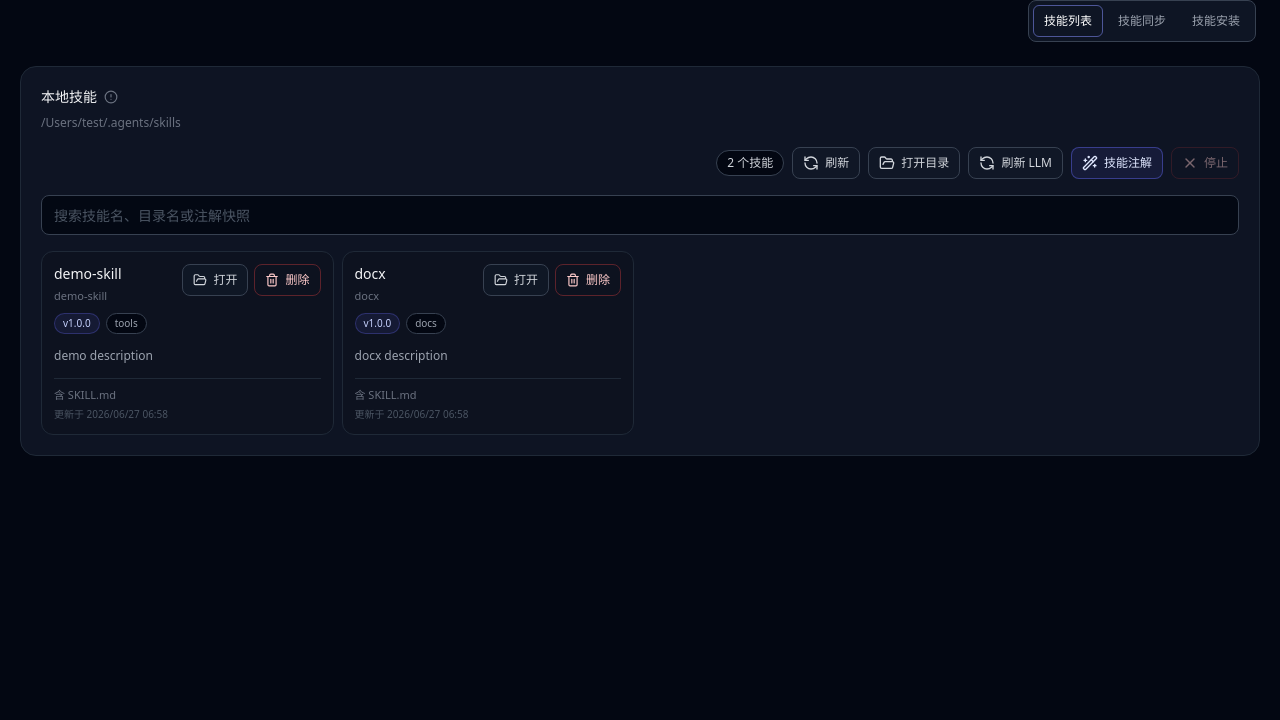
SkillsPage › runs global update and shows actual command in recent command results
Expected: the heading "本地技能" is shown, left=41, top=87, right=97, bottom=107
Click the button "技能安装".
click(1216, 21)  # box left=1181, top=5, right=1251, bottom=37
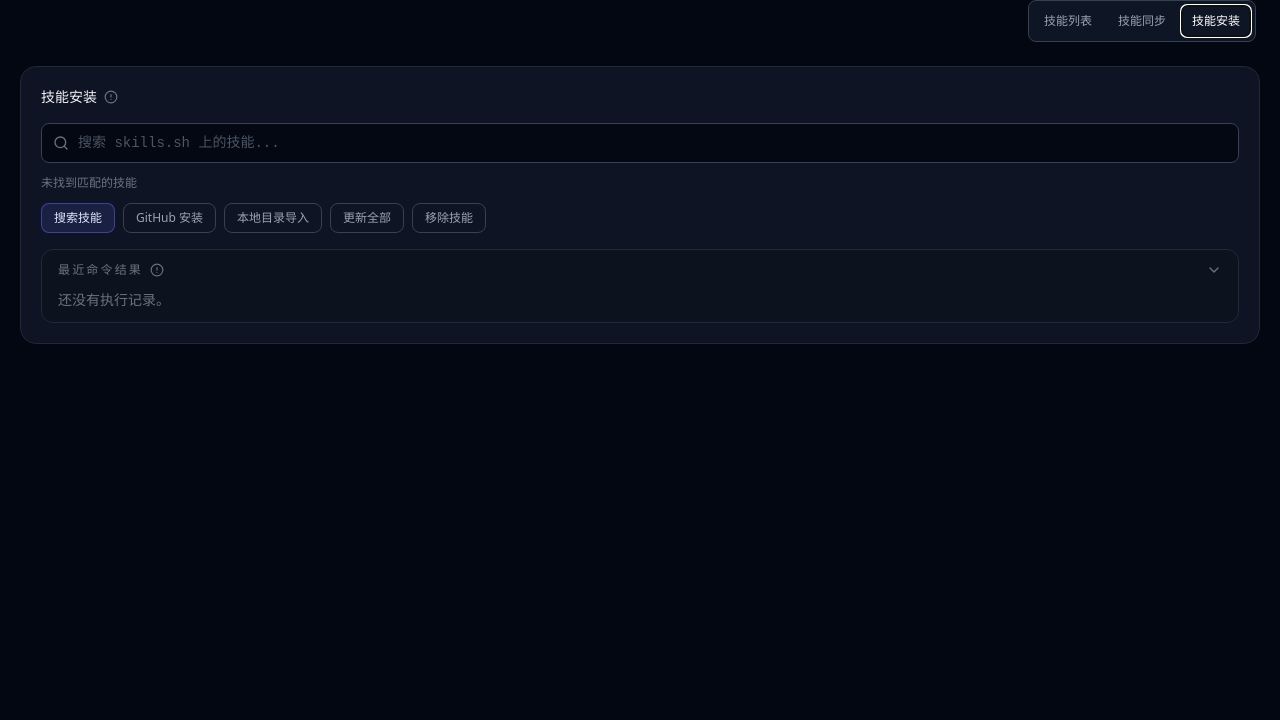
Click the button "更新全部".
click(367, 218)  # box left=330, top=203, right=404, bottom=233
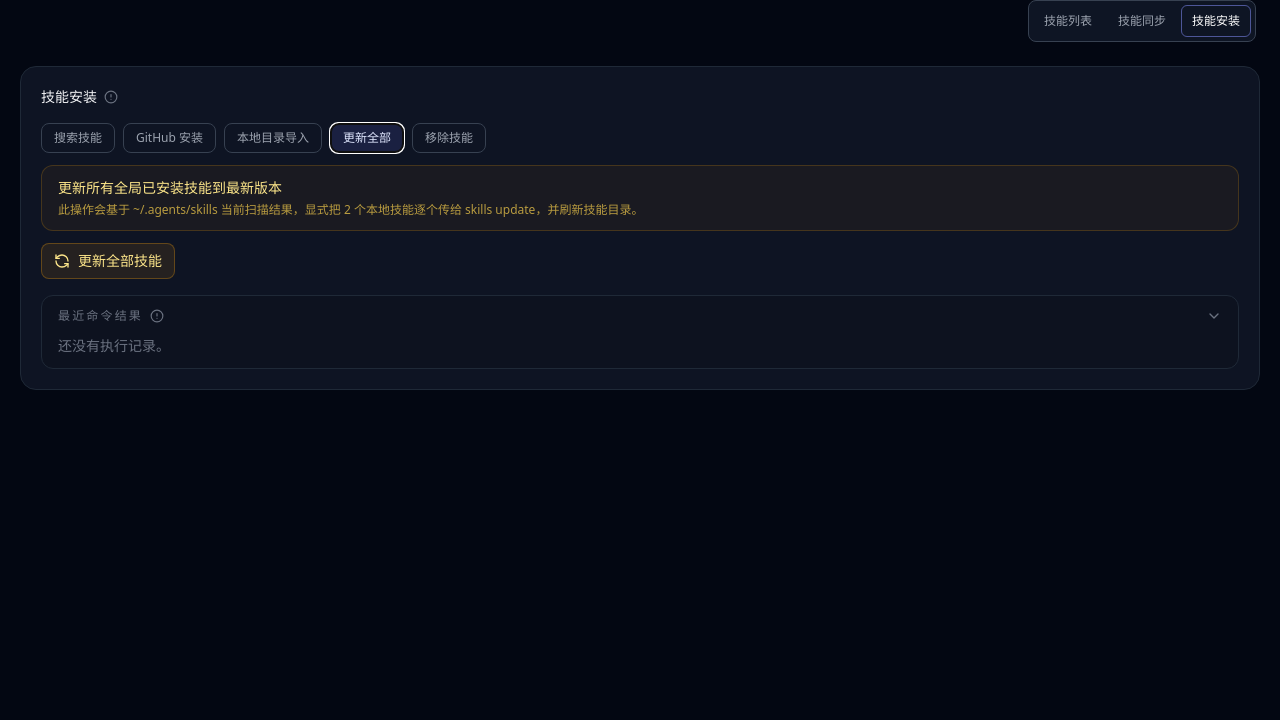
Click the button "更新全部技能".
click(108, 261)  # box left=41, top=243, right=175, bottom=279
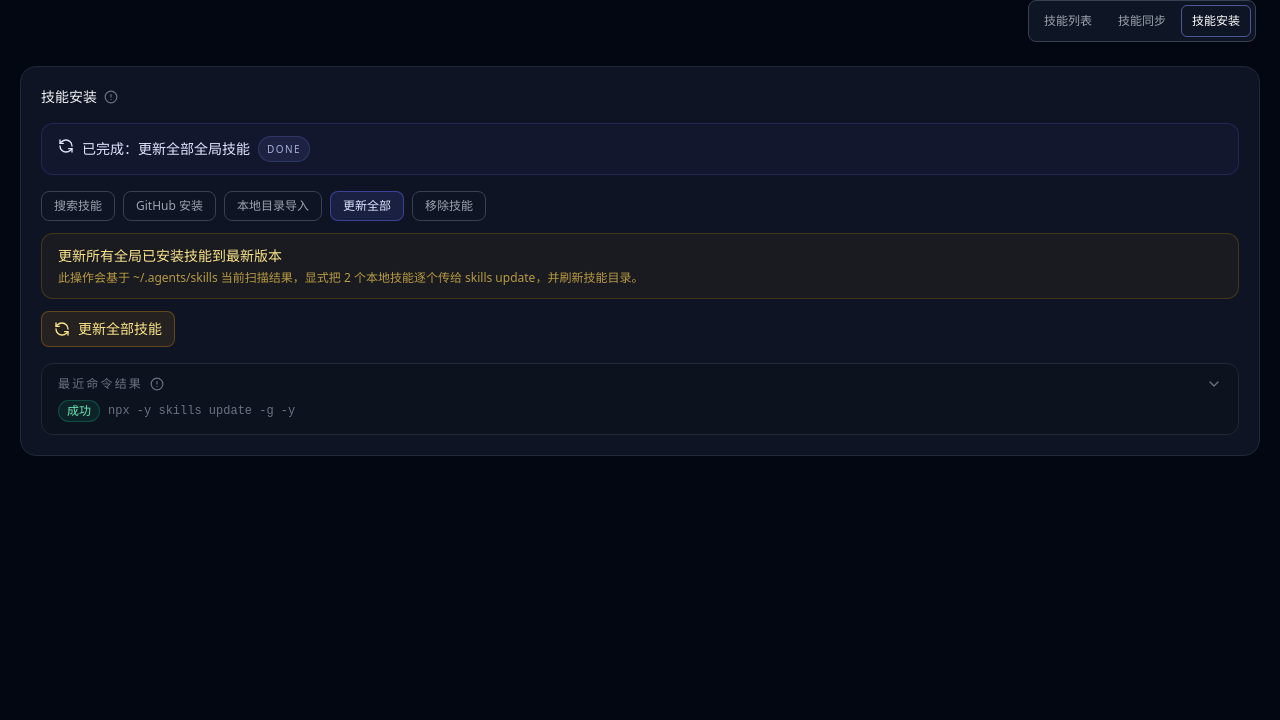
Click the button "最近命令结果".
click(100, 384)  # box left=58, top=376, right=1222, bottom=392
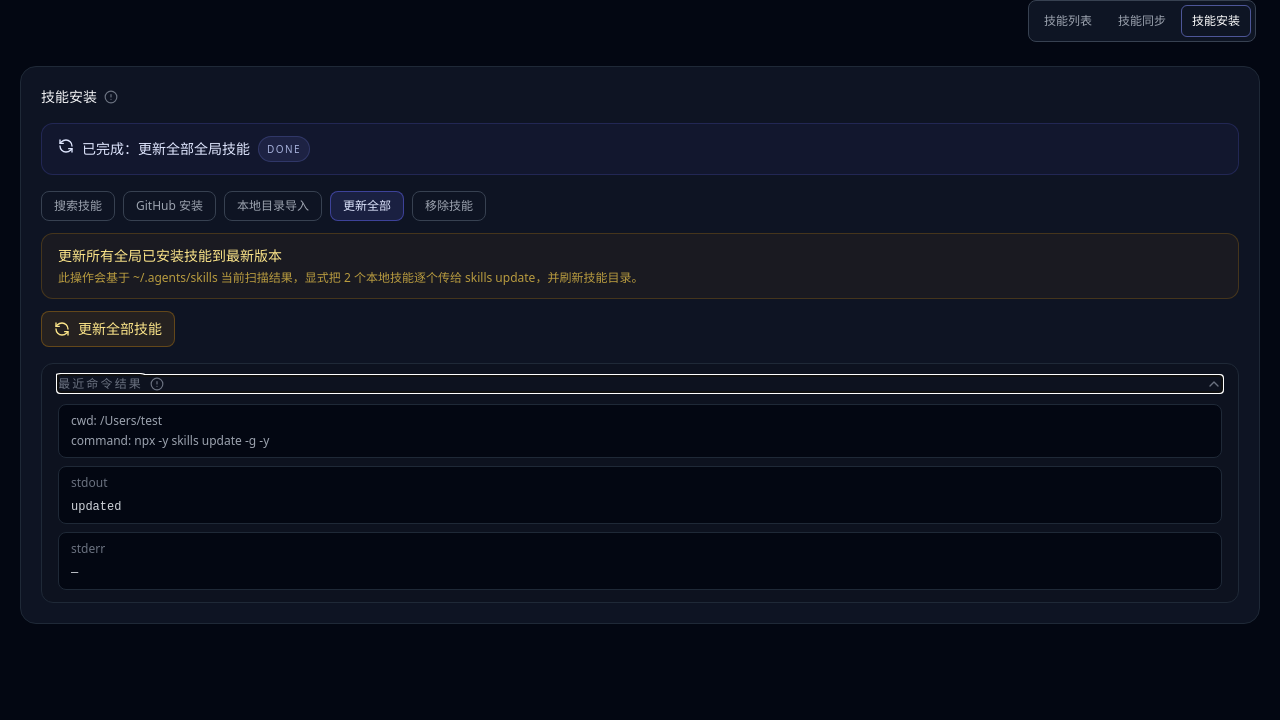
Result: the text "command: npx -y skills update -g -y" is shown at left=71, top=432, right=269, bottom=449
